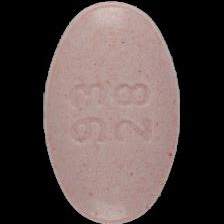0093-0028: (0, 0, 224, 224)
